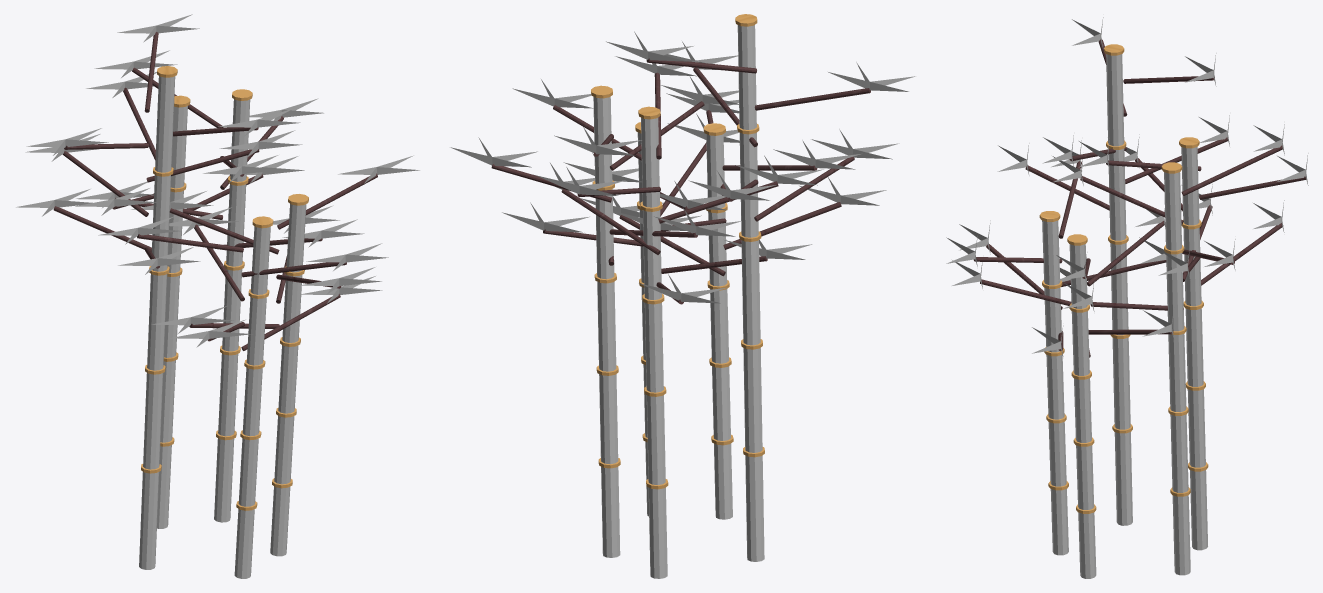
Rendered from moonfall_bamboo_grove.obj.
3 views of the same model, side by side, from view 1: azimuth 30°, elevation 25°; view 2: azimuth 150°, elevation 25°; view 3: azimuth 270°, elevation 25° (orthographic). The views are drawn at different scales.
Visible parts, largest first — view 1: geometry_50, geometry_58, geometry_52, geometry_54, geometry_25, geometry_27, geometry_56, geometry_31, geometry_0, geometry_75, geometry_2, geometry_6 (+18 smaller); view 2: geometry_50, geometry_54, geometry_52, geometry_58, geometry_25, geometry_100, geometry_29, geometry_102, geometry_104, geometry_27, geometry_56, geometry_108 (+13 smaller); view 3: geometry_50, geometry_58, geometry_52, geometry_56, geometry_25, geometry_100, geometry_102, geometry_33, geometry_27, geometry_104, geometry_29, geometry_54 (+20 smaller).
Part boxes in pixels (left/top/right/bottom): geometry_50: left=139, top=472, right=159, bottom=569; geometry_58: left=155, top=76, right=175, bottom=172; geometry_52: left=143, top=373, right=163, bottom=469; geometry_54: left=147, top=274, right=167, bottom=370; geometry_25: left=214, top=438, right=234, bottom=522; geometry_27: left=218, top=354, right=238, bottom=436; geometry_56: left=151, top=175, right=171, bottom=271; geometry_31: left=226, top=184, right=246, bottom=266; geometry_0: left=234, top=509, right=254, bottom=578; geometry_75: left=270, top=486, right=290, bottom=556; geometry_2: left=238, top=438, right=258, bottom=506; geometry_6: left=246, top=297, right=266, bottom=365; geometry_50: left=745, top=455, right=764, bottom=561; geometry_54: left=741, top=240, right=760, bottom=345; geometry_52: left=743, top=348, right=762, bottom=452; geometry_58: left=737, top=25, right=756, bottom=129; geometry_25: left=601, top=466, right=620, bottom=557; geometry_100: left=648, top=487, right=667, bottom=578; geometry_29: left=597, top=281, right=616, bottom=371; geometry_102: left=646, top=395, right=665, bottom=484; geometry_104: left=644, top=302, right=663, bottom=392; geometry_27: left=599, top=374, right=618, bottom=464; geometry_56: left=739, top=132, right=758, bottom=237; geometry_108: left=641, top=117, right=659, bottom=207; geometry_50: left=1114, top=432, right=1132, bottom=525; geometry_58: left=1106, top=54, right=1124, bottom=146; geometry_52: left=1112, top=337, right=1130, bottom=429; geometry_56: left=1108, top=148, right=1126, bottom=240; geometry_25: left=1172, top=495, right=1190, bottom=575; geometry_100: left=1190, top=470, right=1207, bottom=550; geometry_102: left=1187, top=389, right=1205, bottom=467; geometry_33: left=1164, top=172, right=1181, bottom=250; geometry_27: left=1170, top=414, right=1188, bottom=492; geometry_104: left=1185, top=308, right=1203, bottom=386; geometry_29: left=1168, top=334, right=1186, bottom=412; geometry_54: left=1110, top=243, right=1128, bottom=335.
Bounding box in the file's own units: 7.89 × 9.84 × 6.73.
